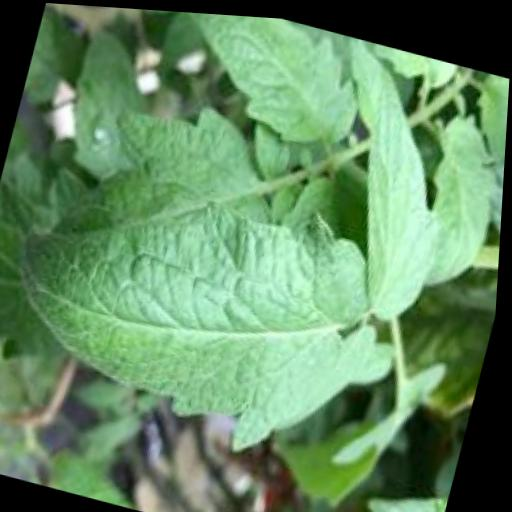Healthy: (0, 141, 410, 476), (286, 30, 484, 328), (142, 8, 374, 154)
